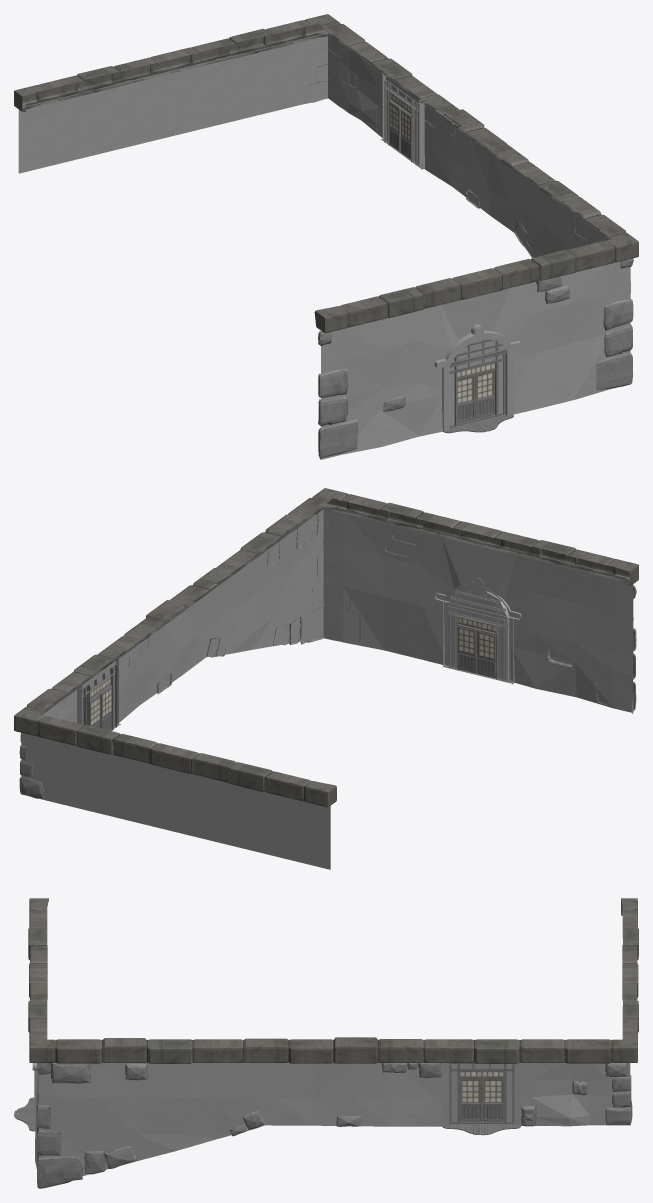
The model's file is SM_ENV_KNVLLG_AreaA_Building_A_BaseWall.mo.fbx.
3 renders of one model, top to bottom at view 1: azimuth 30°, elevation 25°; view 2: azimuth 150°, elevation 25°; view 3: azimuth 270°, elevation 25°, orthographic. The views are drawn at different scales.
Visible parts, largest first — view 1: SM_ENV_KNVLLG_AreaA_Building_A_BaseWall.mo; view 2: SM_ENV_KNVLLG_AreaA_Building_A_BaseWall.mo; view 3: SM_ENV_KNVLLG_AreaA_Building_A_BaseWall.mo.
Part boxes in pixels (x1,y1,x2,y2): SM_ENV_KNVLLG_AreaA_Building_A_BaseWall.mo: (14, 14, 638, 459); SM_ENV_KNVLLG_AreaA_Building_A_BaseWall.mo: (14, 488, 638, 869); SM_ENV_KNVLLG_AreaA_Building_A_BaseWall.mo: (14, 898, 638, 1188).
Size of the model in its own units: 21.58 by 9.19 by 35.93.
